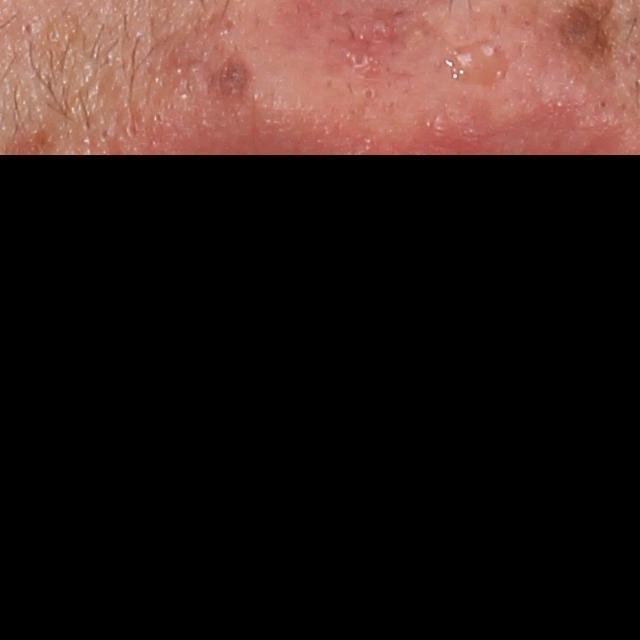comedo: (21, 19, 38, 37)
